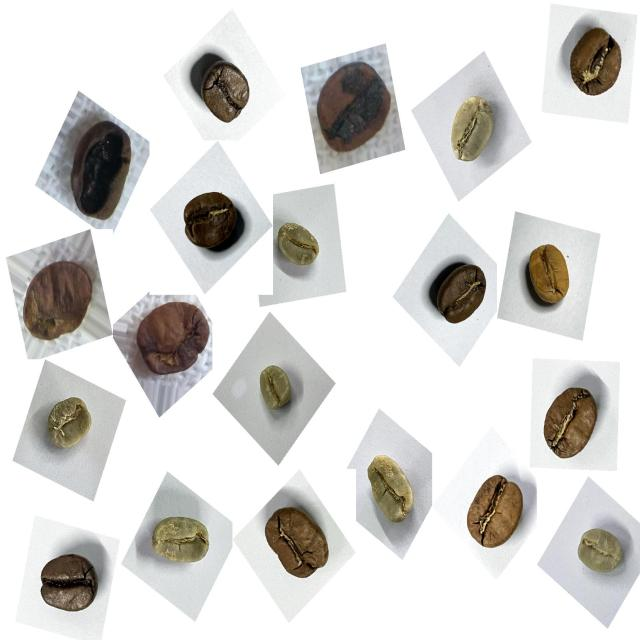bad: (60, 110, 147, 232), (307, 48, 398, 164), (16, 248, 102, 350), (132, 295, 220, 391)
dark: (31, 540, 108, 628), (174, 177, 250, 261)
green: (355, 446, 426, 538), (438, 86, 507, 176), (142, 502, 219, 579), (38, 387, 104, 466), (569, 520, 632, 589), (269, 212, 331, 281), (250, 358, 303, 422)
light: (519, 232, 586, 318)
medium: (253, 496, 337, 592), (457, 465, 534, 562), (532, 378, 608, 475), (557, 19, 634, 114), (188, 50, 260, 136), (424, 255, 494, 336)
